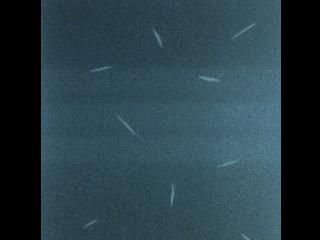scratch: (225, 8, 262, 43), (115, 112, 144, 141), (81, 208, 109, 232), (146, 23, 169, 50), (211, 155, 241, 173), (88, 60, 112, 78), (196, 71, 224, 86), (168, 179, 178, 208), (238, 231, 254, 240)
